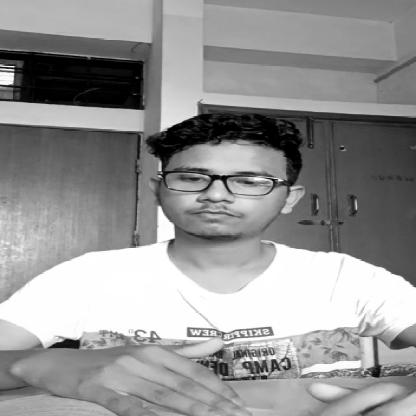Normal: (134, 116, 314, 246)
